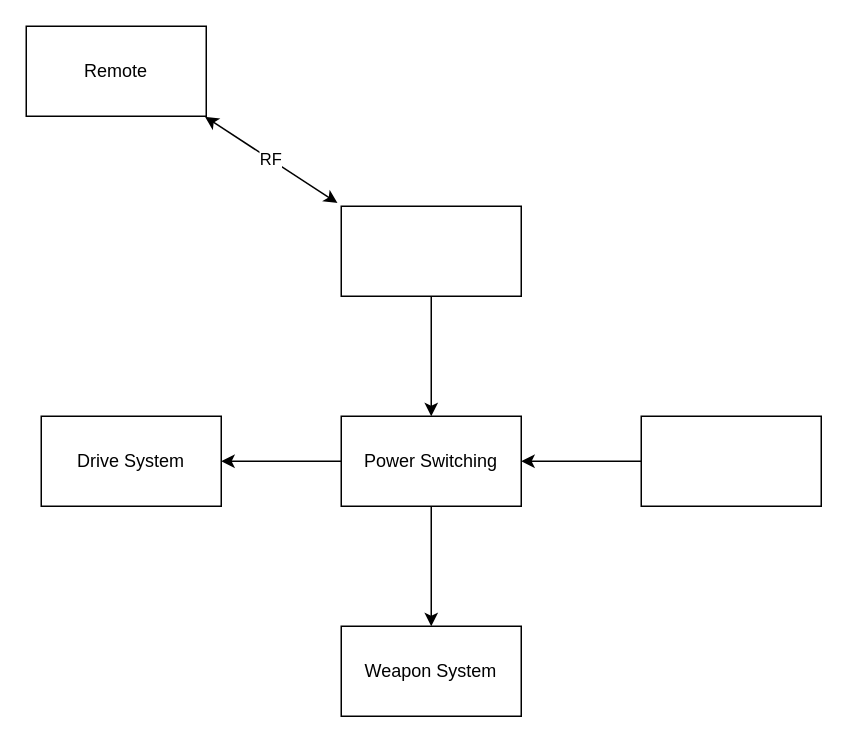
This 848x743 diagram has some shape labels left out. Each missing label, with the box of its shape:
Battery: (640, 415, 821, 506)
Control: (340, 205, 521, 296)
